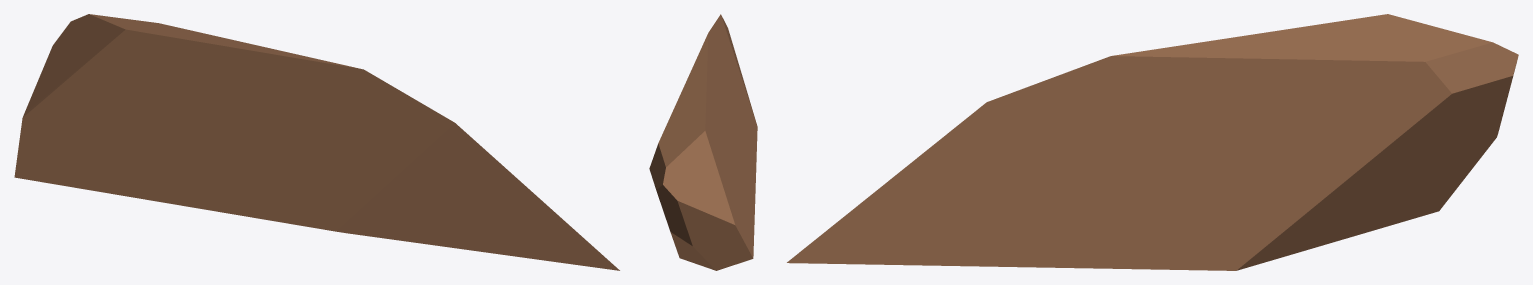
The model's file is WoodCellCube_003_cell_011.fbx.
The picture shows the model from 3 angles, left to right: view 1: azimuth 30°, elevation 25°; view 2: azimuth 150°, elevation 25°; view 3: azimuth 270°, elevation 25°; orthographic projection. The views are drawn at different scales.
Parts seen in each view (by area): view 1: WoodCellCube_003_cell_011; view 2: WoodCellCube_003_cell_011; view 3: WoodCellCube_003_cell_011.
Part boxes in pixels (bbox=[...]): WoodCellCube_003_cell_011: bbox=[14, 14, 619, 270]; WoodCellCube_003_cell_011: bbox=[649, 14, 757, 270]; WoodCellCube_003_cell_011: bbox=[787, 14, 1518, 270].
Size of the model in its own units: 0.8911 by 0.2856 by 0.5148.
1 material, 1 textured.
